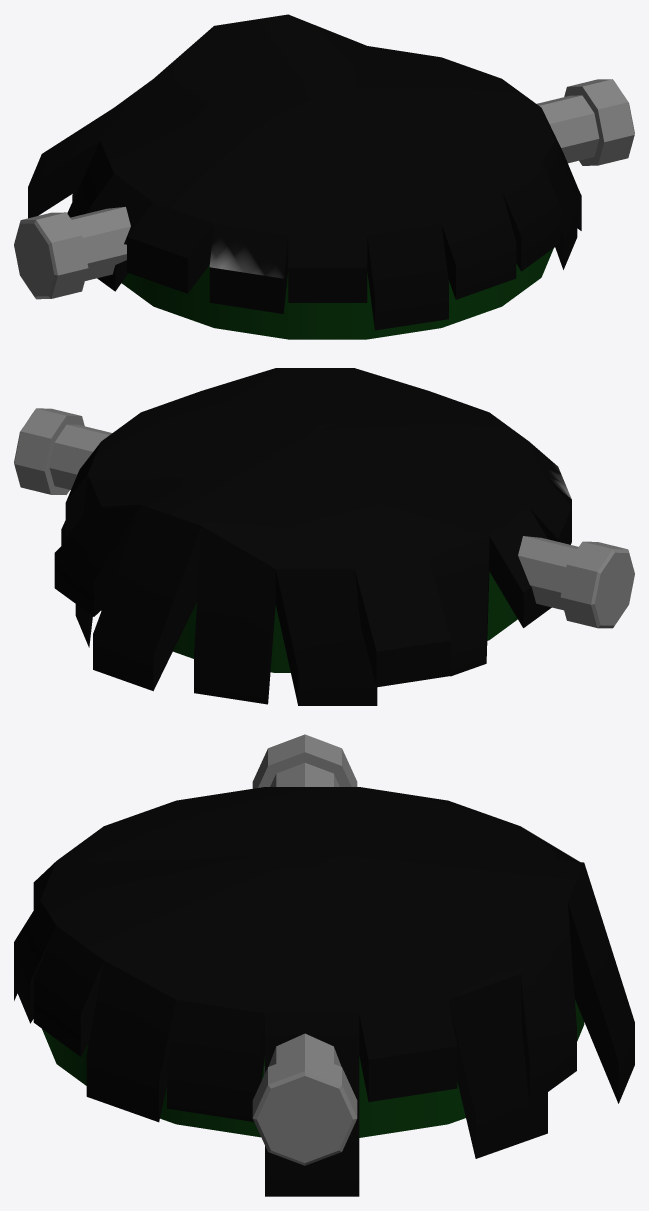
The model's file is CabecaDeFrakstein.fbx.
The picture shows the model from 3 angles, top to bottom: view 1: azimuth 30°, elevation 25°; view 2: azimuth 150°, elevation 25°; view 3: azimuth 270°, elevation 25°; orthographic projection. The views are drawn at different scales.
Parts seen in each view (by area): view 1: CabecaDeFrakstein; view 2: CabecaDeFrakstein; view 3: CabecaDeFrakstein.
Part boxes in pixels (left/top/right/bottom): CabecaDeFrakstein: left=14, top=14, right=634, bottom=339; CabecaDeFrakstein: left=14, top=368, right=634, bottom=705; CabecaDeFrakstein: left=14, top=734, right=634, bottom=1196.
Bounding box in the file's own units: 295 × 85.6 × 228.
